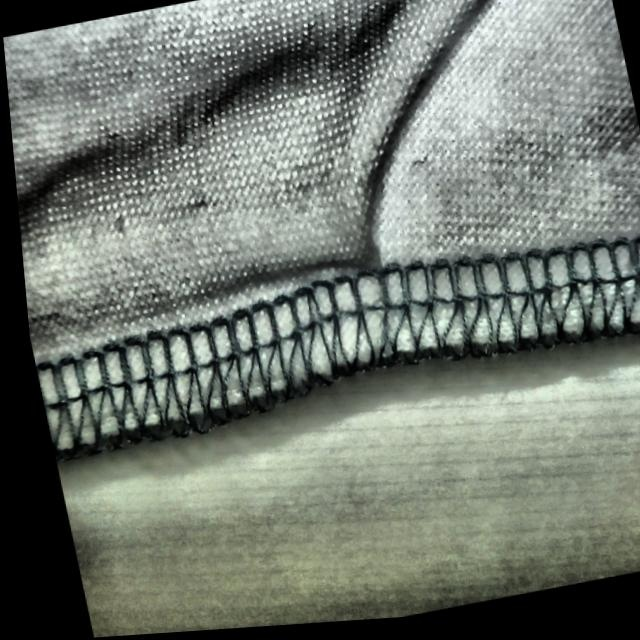seam: (219, 109, 472, 457)
